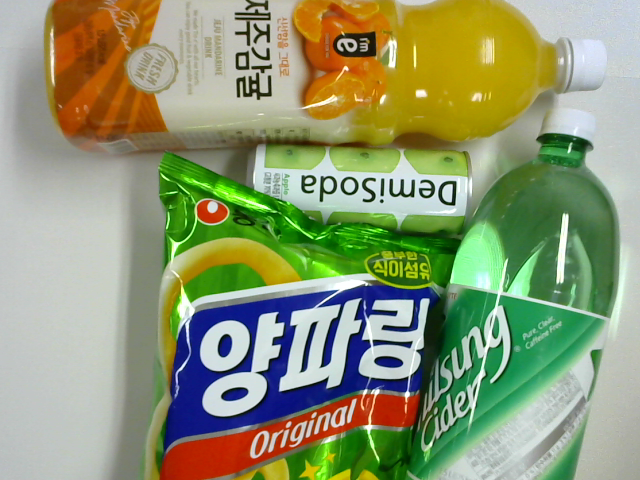Chilseong_Cider_1.5L: (405, 102, 624, 480)
Demisoda_Apple_Can_250ml: (233, 134, 481, 238)
Jeju_Tangerine_1.5L: (43, 6, 605, 146)
Oninon_Ring: (145, 152, 460, 480)
